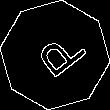P_SW: (24, 25, 86, 85)
